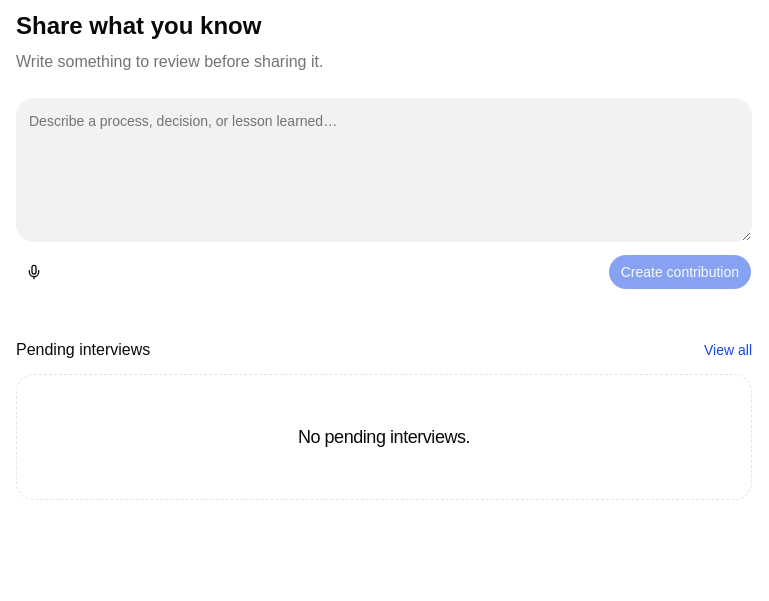
it: home contribution composer › shows one localized microphone error for an unavailable recording context
This screenshot has width=769, height=601.
Step 1. Click the button named "Record audio" → (34, 272), box [16,254,52,290]
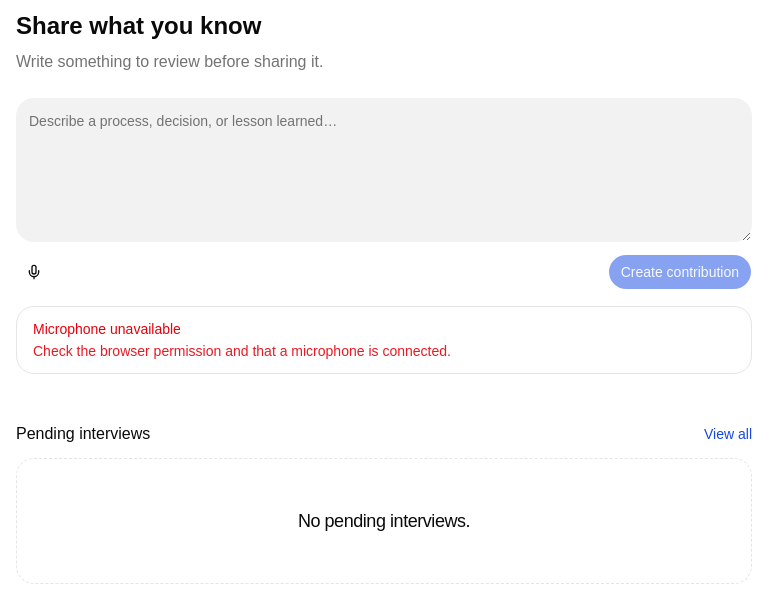
Now the message shows "Microphone unavailable", box [33,321,181,337]
